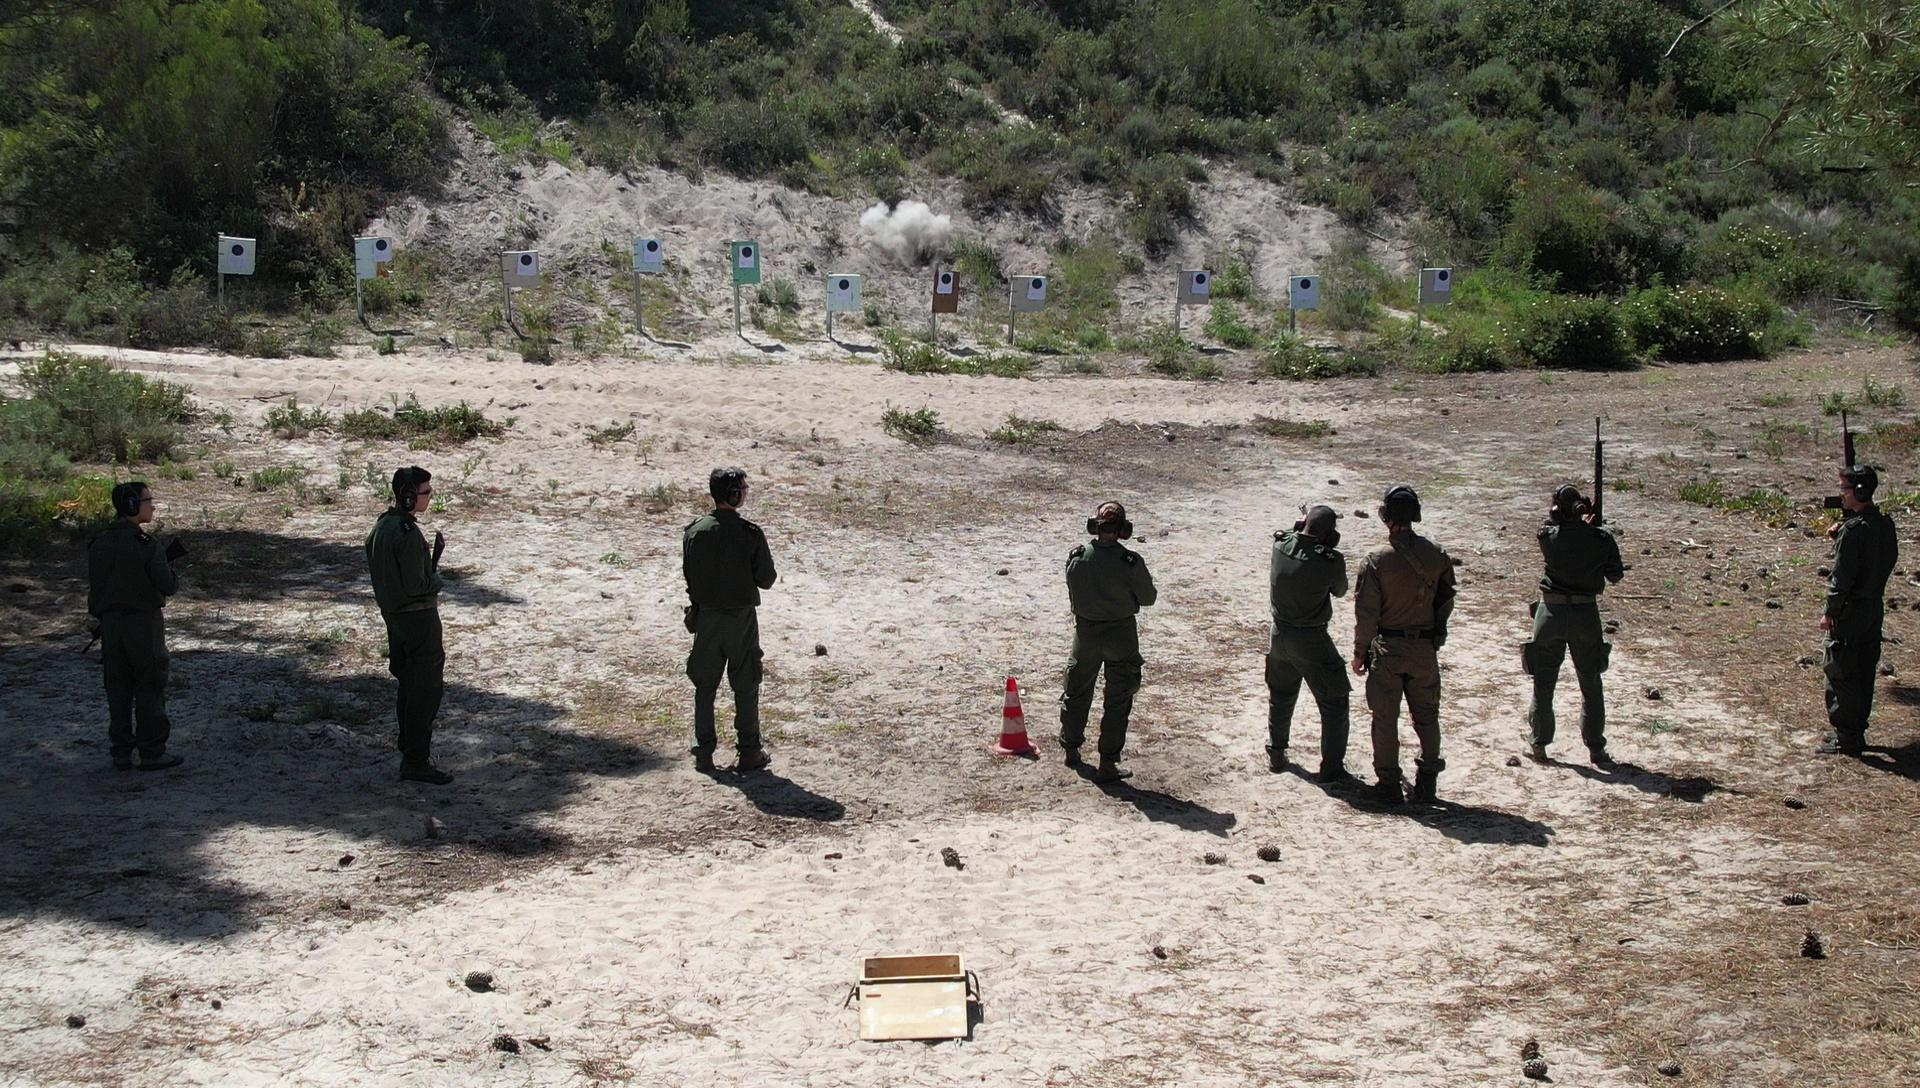Soldier: (335, 473, 495, 822), (1516, 411, 1638, 815), (76, 459, 194, 807), (1808, 409, 1916, 783), (1040, 491, 1168, 801), (1360, 460, 1458, 836), (1244, 476, 1348, 794), (676, 462, 781, 773)
